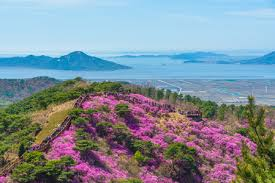mountain: (4, 84, 275, 181)
sky: (1, 1, 275, 49)
